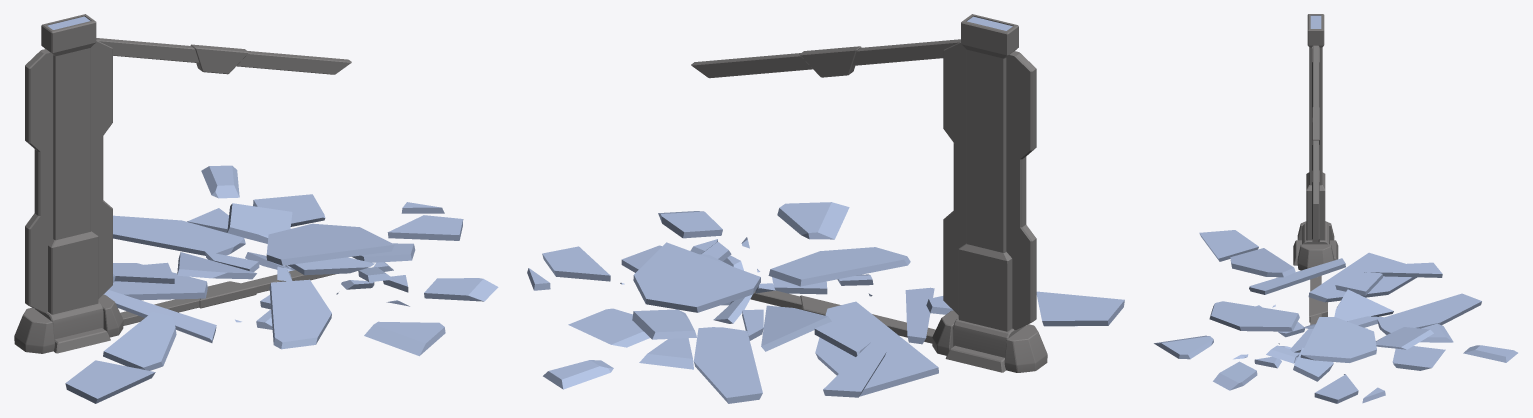
The model's file is Barriere_02_present_LP.fbx.
3 views of the same model, side by side, from view 1: azimuth 30°, elevation 25°; view 2: azimuth 150°, elevation 25°; view 3: azimuth 270°, elevation 25° (orthographic). The views are drawn at different scales.
Parts seen in each view (by area): view 1: Barriere02_present_Verre_low, Barriere02_present_Pilier1_low, Barriere02_present_Pilier2_low, Barriere02_present_Cadre1_low, Barriere02_present_Socle3_low, Barriere02_present_Socle2_low, Barriere02_present_Cadre3_low, Barriere02_present_Cadre2_low, Barriere02_present_Cadre4_low, Barriere02_present_Socle1_low; view 2: Barriere02_present_Verre_low, Barriere02_present_Pilier1_low, Barriere02_present_Pilier2_low, Barriere02_present_Cadre1_low, Barriere02_present_Socle3_low, Barriere02_present_Socle2_low, Barriere02_present_Cadre2_low, Barriere02_present_Cadre3_low, Barriere02_present_Socle1_low; view 3: Barriere02_present_Verre_low, Barriere02_present_Pilier1_low, Barriere02_present_Socle3_low, Barriere02_present_Cadre1_low, Barriere02_present_Pilier2_low.
Boxes of the visible parts, box(x1,y1,x2,y2) form: Barriere02_present_Verre_low: box(65, 165, 498, 403); Barriere02_present_Pilier1_low: box(41, 14, 98, 314); Barriere02_present_Pilier2_low: box(25, 40, 112, 312); Barriere02_present_Cadre1_low: box(96, 38, 351, 74); Barriere02_present_Socle3_low: box(14, 294, 123, 353); Barriere02_present_Socle2_low: box(35, 301, 103, 339); Barriere02_present_Cadre3_low: box(120, 270, 335, 325); Barriere02_present_Cadre2_low: box(190, 44, 248, 74); Barriere02_present_Cadre4_low: box(199, 281, 256, 308); Barriere02_present_Socle1_low: box(53, 328, 110, 353); Barriere02_present_Verre_low: box(527, 202, 1124, 403); Barriere02_present_Pilier1_low: box(958, 14, 1018, 331); Barriere02_present_Pilier2_low: box(943, 42, 1036, 329); Barriere02_present_Cadre1_low: box(691, 39, 960, 78); Barriere02_present_Socle3_low: box(932, 310, 1047, 372); Barriere02_present_Socle2_low: box(953, 318, 1025, 357); Barriere02_present_Cadre2_low: box(799, 46, 861, 77); Barriere02_present_Cadre3_low: box(750, 290, 935, 343); Barriere02_present_Socle1_low: box(945, 345, 1006, 372); Barriere02_present_Verre_low: box(1154, 230, 1517, 403); Barriere02_present_Pilier1_low: box(1306, 14, 1325, 240); Barriere02_present_Socle3_low: box(1297, 221, 1334, 270); Barriere02_present_Cadre1_low: box(1313, 45, 1318, 203); Barriere02_present_Pilier2_low: box(1312, 46, 1319, 242).
Size of the model in its own units: 2.9 by 1.86 by 2.63.
